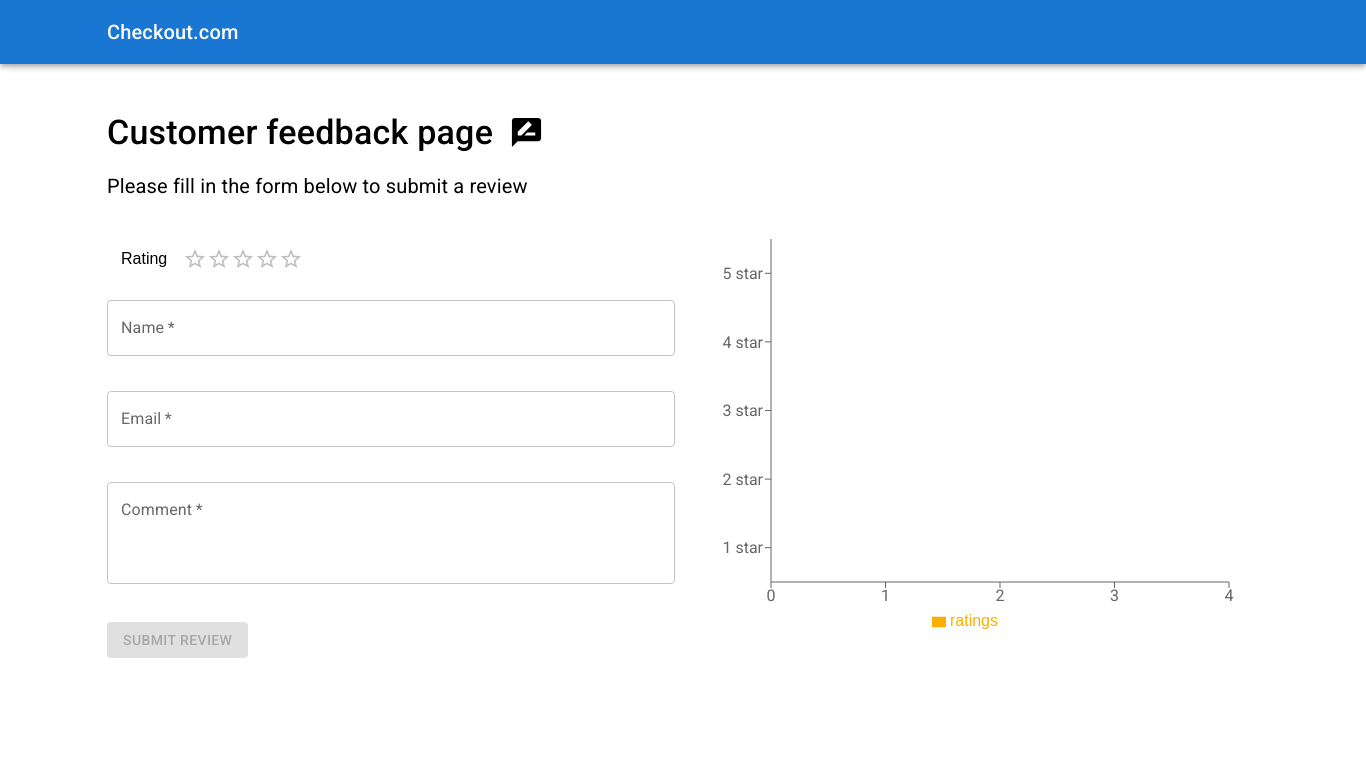
Test: Customer Feedback Page › should add a new review on submit with valid form
The width and height of the screenshot is (1366, 768).
# Enter form values.
Click the element with test id "select-rating-test-id" at (243, 259), box x1=183 y1=247 x2=303 y2=271
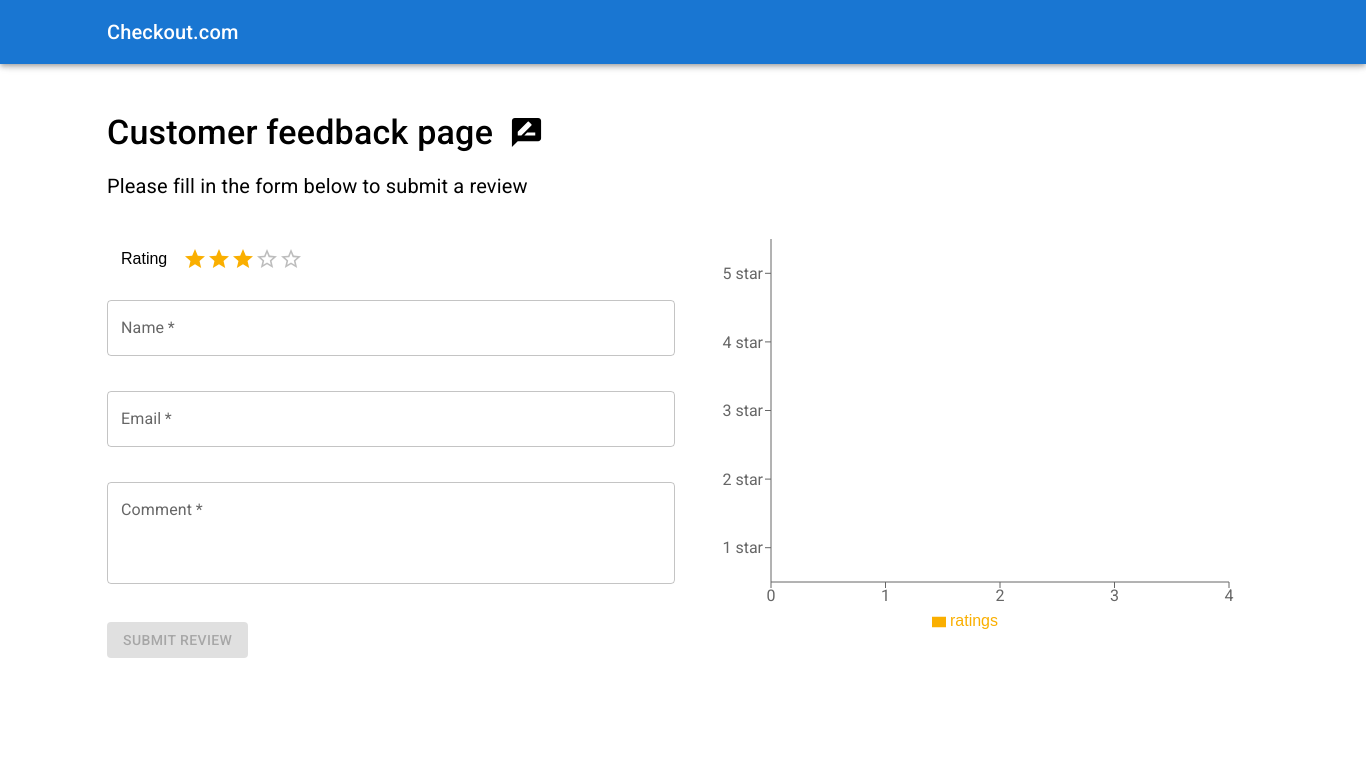
Type "John Smith" into the field labelled "Name *" at (391, 328), box x1=107 y1=300 x2=675 y2=356
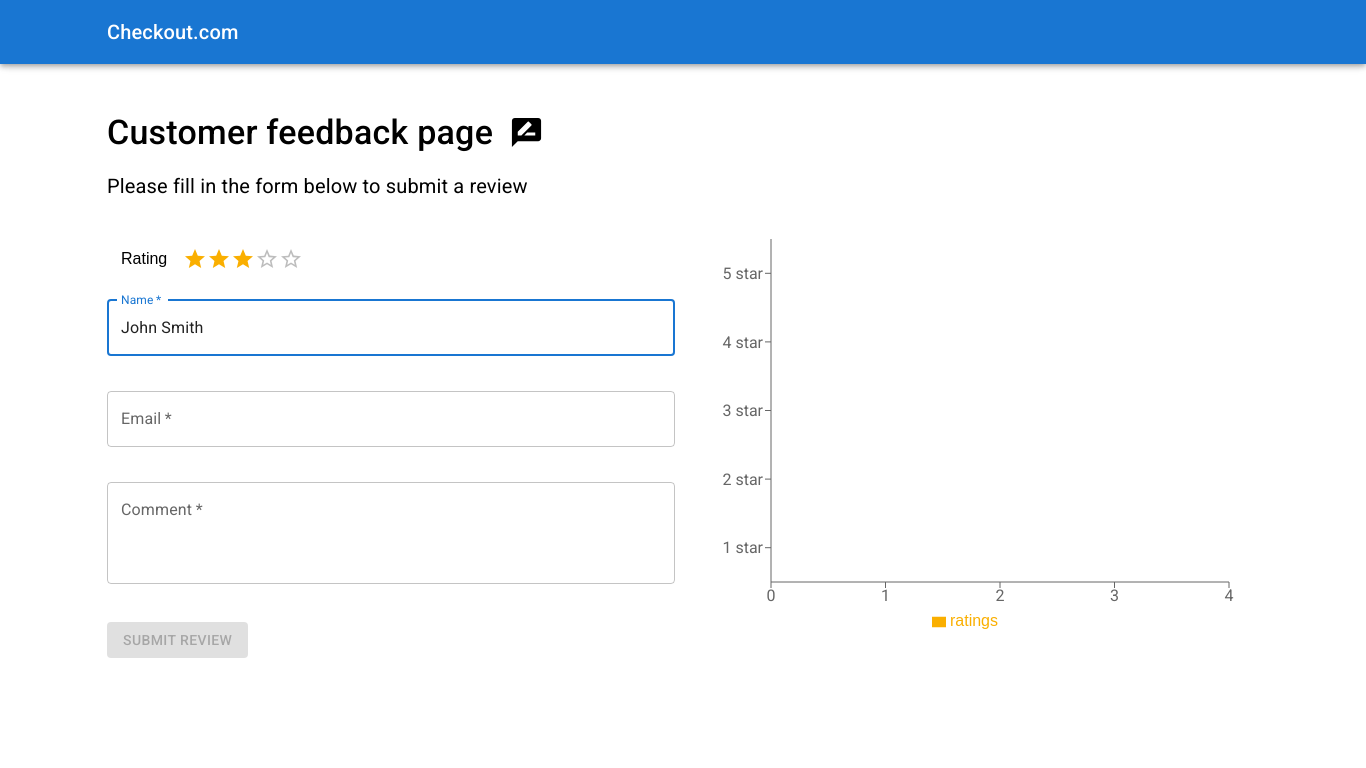
Type "john@email.com" into the field labelled "Email *" at (391, 419), box x1=107 y1=391 x2=675 y2=447
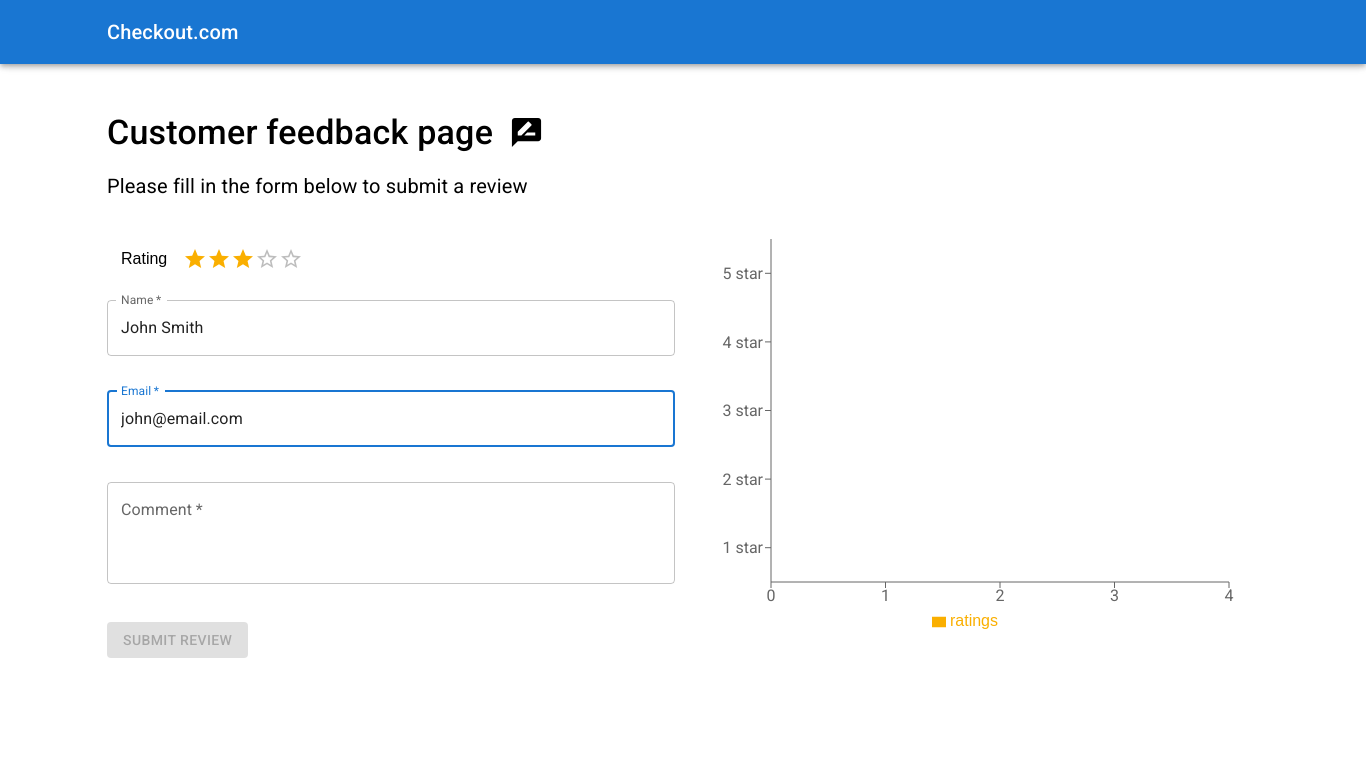
Type "Test" into the text box labelled "Comment *" at (391, 534), box x1=121 y1=499 x2=661 y2=568
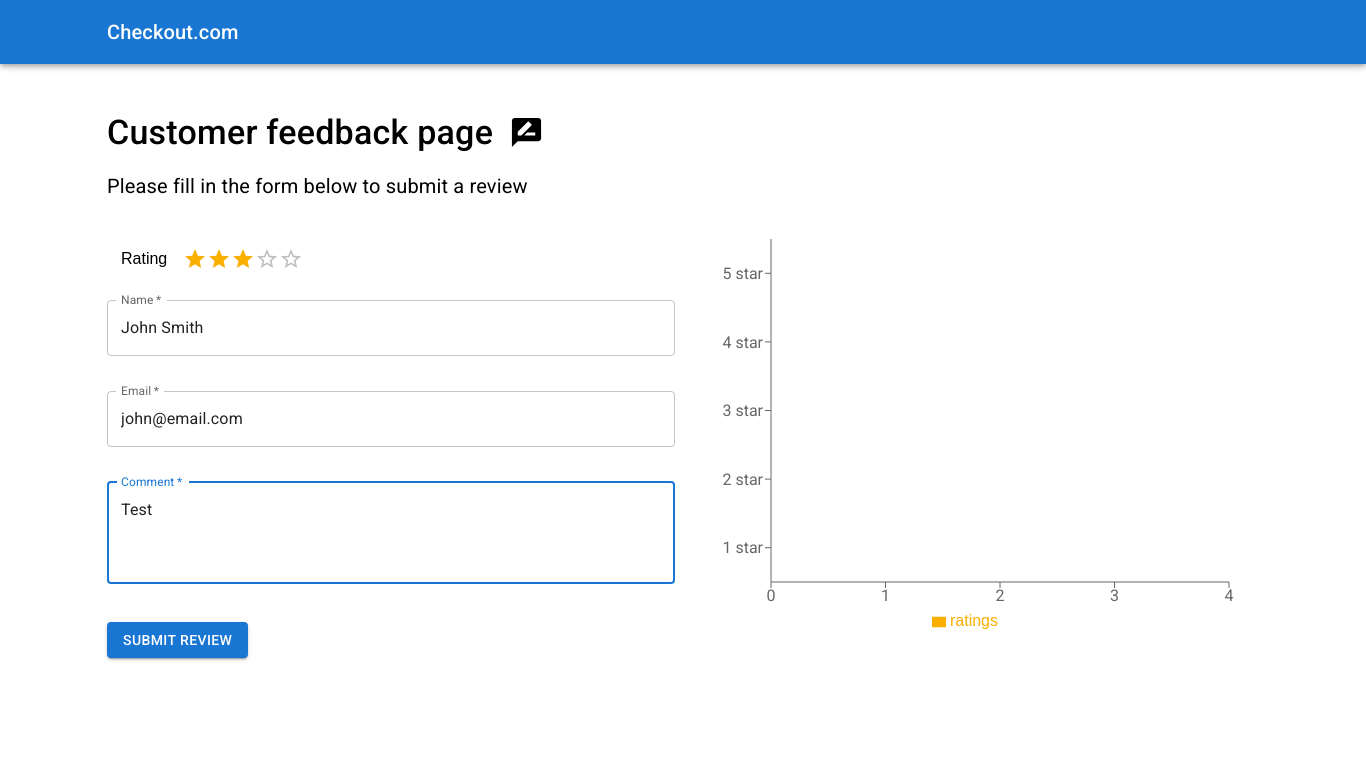
Click the button "Submit review" at (178, 641), box x1=107 y1=622 x2=248 y2=659
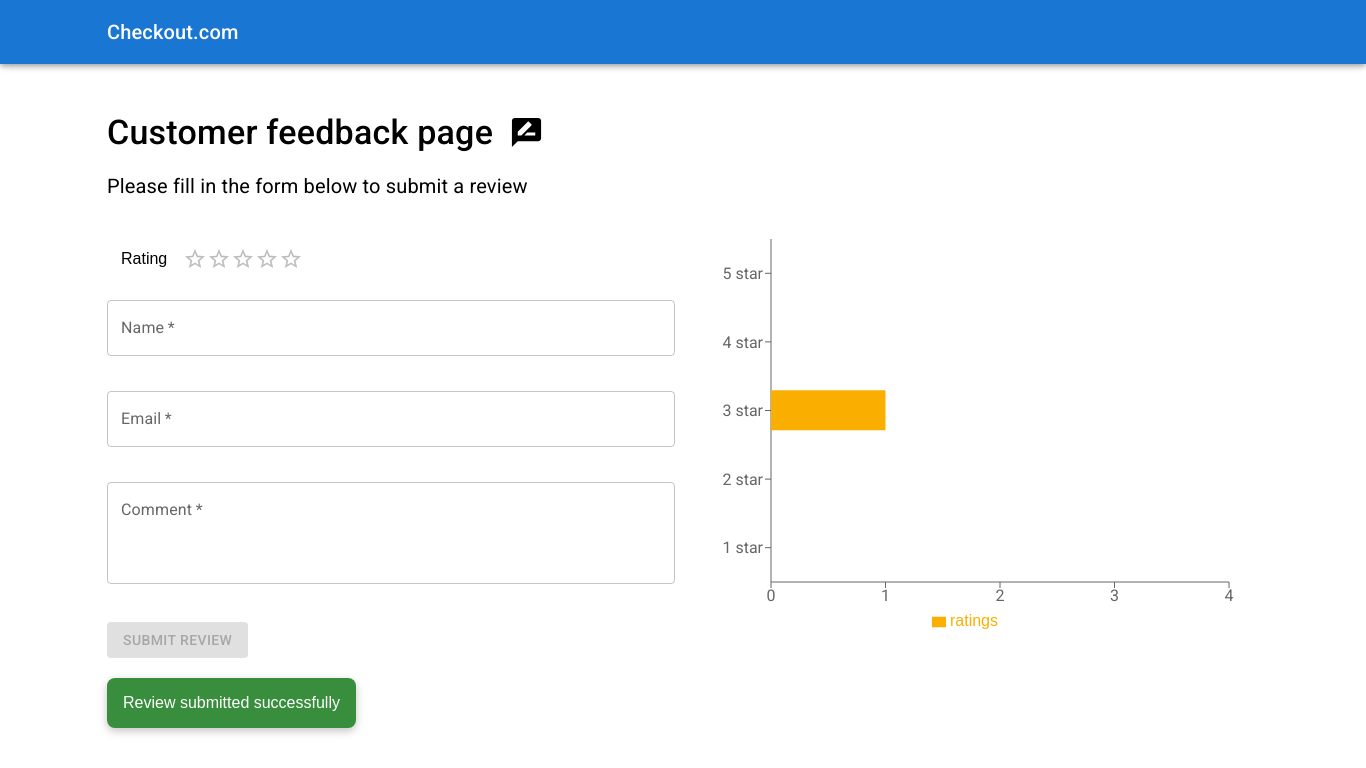
expect the text "Review submitted successfully" is shown: met, box x1=107 y1=678 x2=356 y2=728
